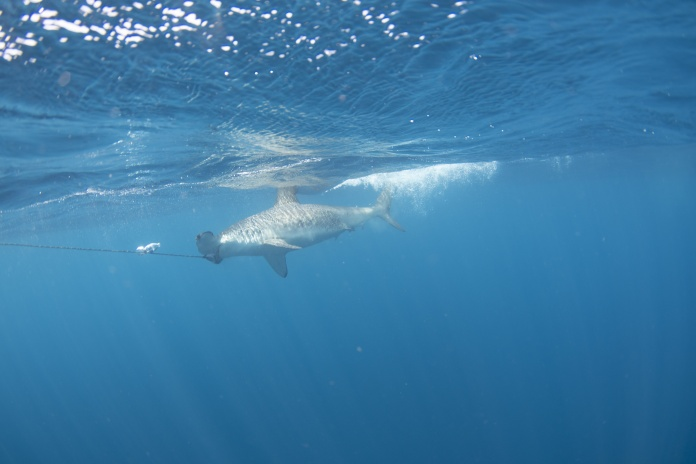Hammer: (169, 161, 411, 288)
